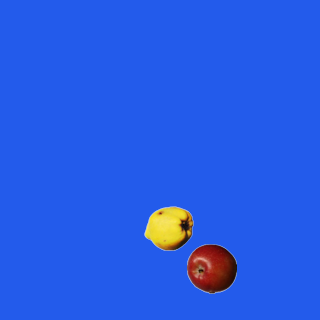Apple Braeburn: (186, 243, 236, 293)
Quince: (143, 203, 193, 253)
